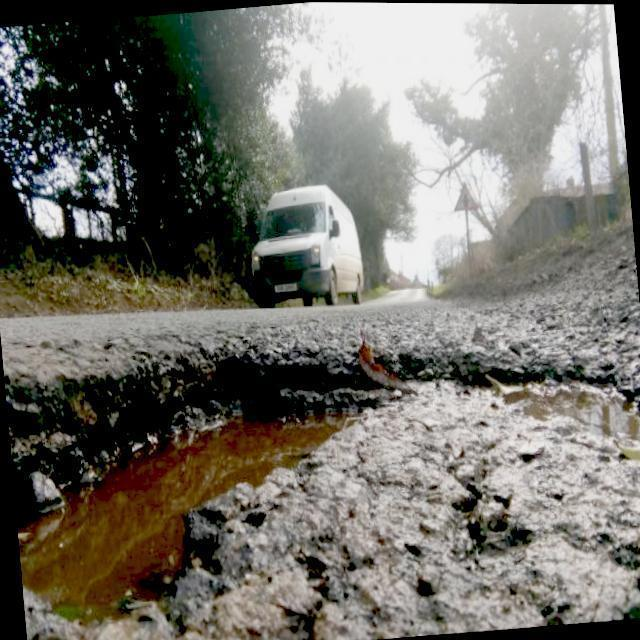Pothole: (5, 335, 640, 640)
